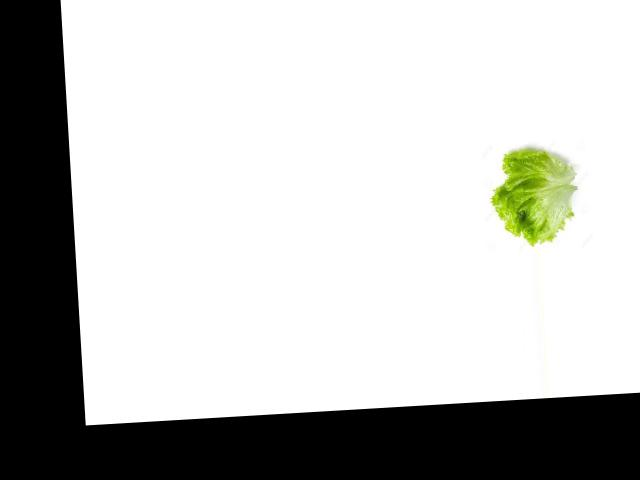lettuce: (491, 137, 582, 250)
